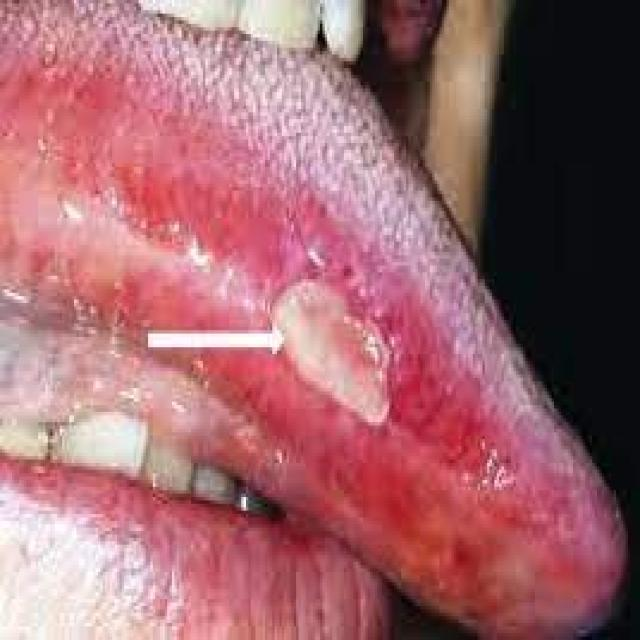processing_area: (0, 0, 607, 637)
ulcer-detection: (238, 230, 422, 440)
